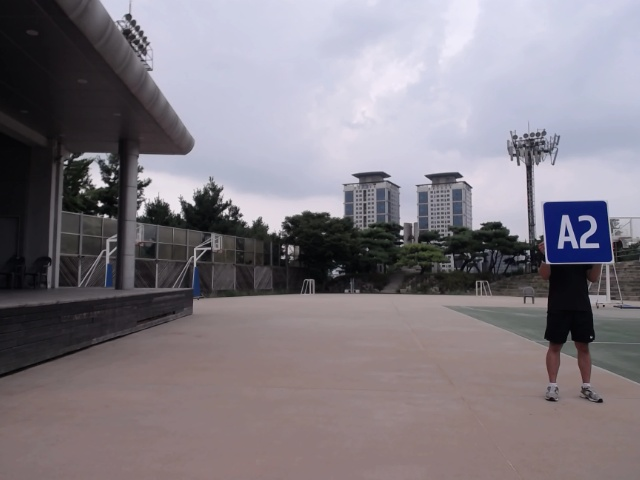delivery_a2: (542, 200, 614, 264)
